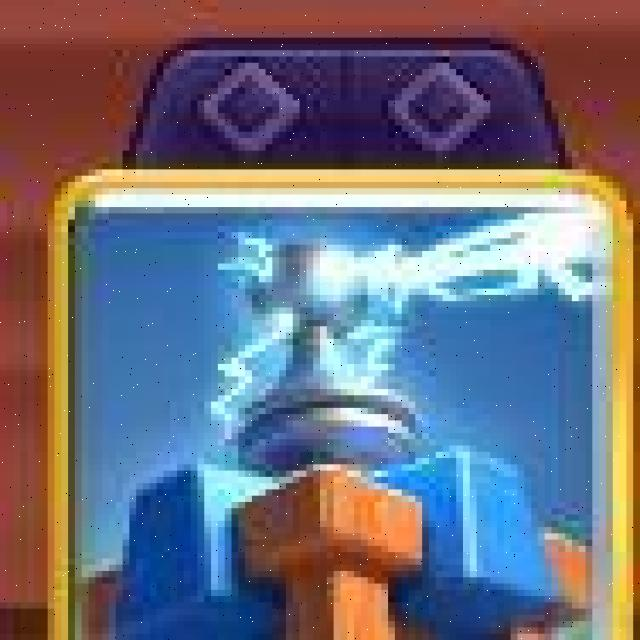Tesla: (61, 177, 638, 640)
